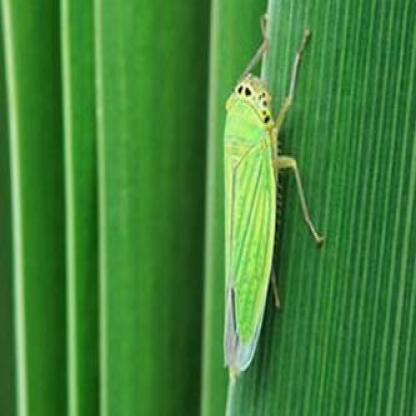Green-Leafhopper: (219, 8, 330, 376)
